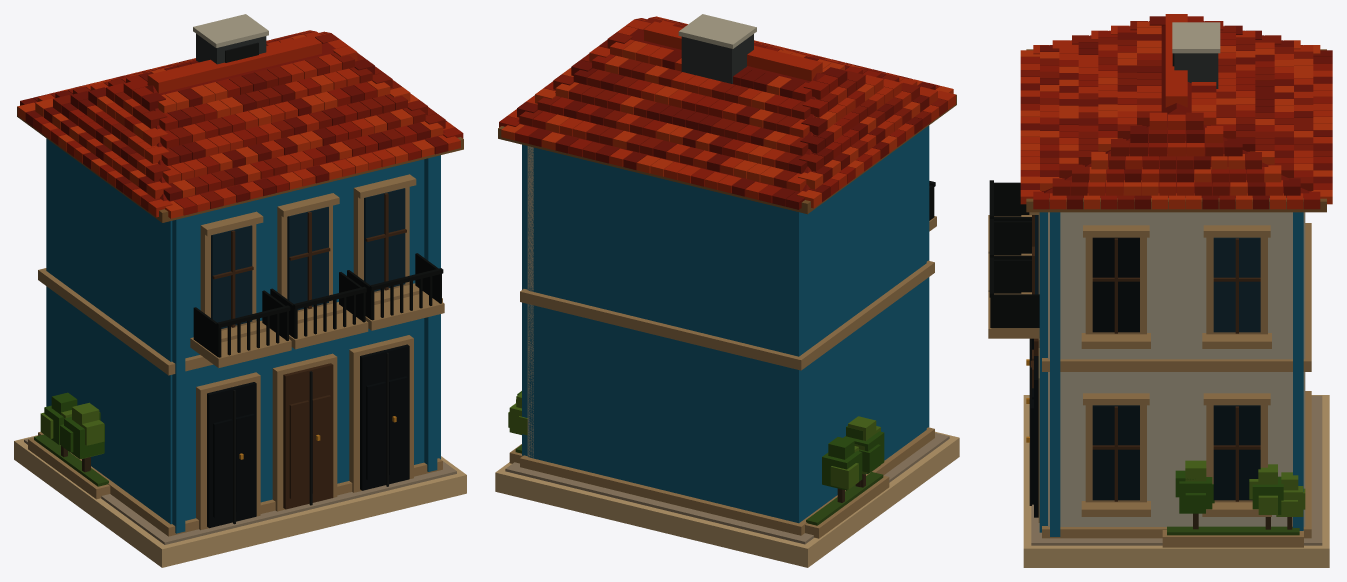
Rendered from SM_Mapa_001.fbx.
The picture shows the model from 3 angles, left to right: view 1: azimuth 30°, elevation 25°; view 2: azimuth 150°, elevation 25°; view 3: azimuth 270°, elevation 25°; orthographic projection. The views are drawn at different scales.
Parts seen in each view (by area): view 1: SM_Mapa_001; view 2: SM_Mapa_001; view 3: SM_Mapa_001.
Part boxes in pixels (x1,y1,x2,y2): SM_Mapa_001: (14, 14, 466, 567); SM_Mapa_001: (495, 14, 959, 567); SM_Mapa_001: (988, 14, 1332, 567).
Size of the model in its own units: 8 by 7.28 by 10.62.
